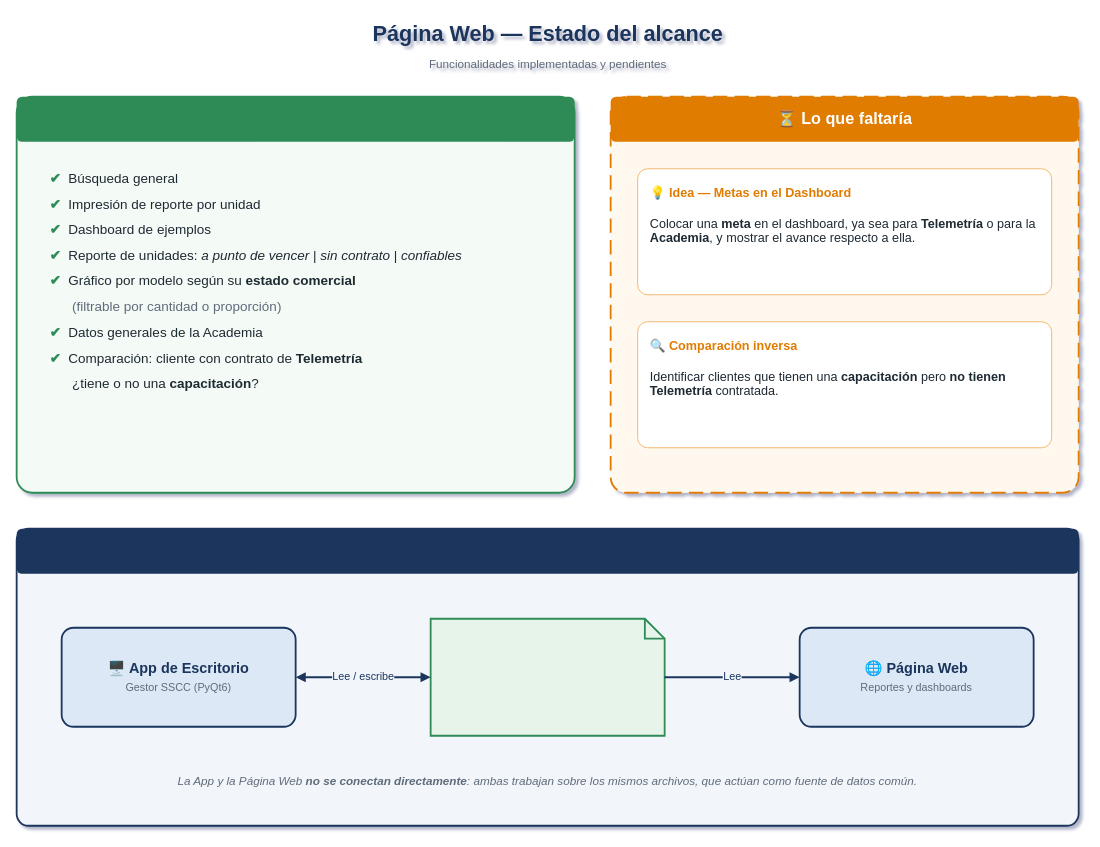
The diagram is 1100 pixels wide and 847 high, and some of its shapes have lost their labels. Here are the shapes that lost their labels. From the top down, the centre of each, then its label:
the point at 295,118: ✔ Lo que contiene
the point at 547,550: 🔄 Comunicación entre la App y la Página Web
the point at 547,676: 📊 Archivos compartidos Excel de datos
